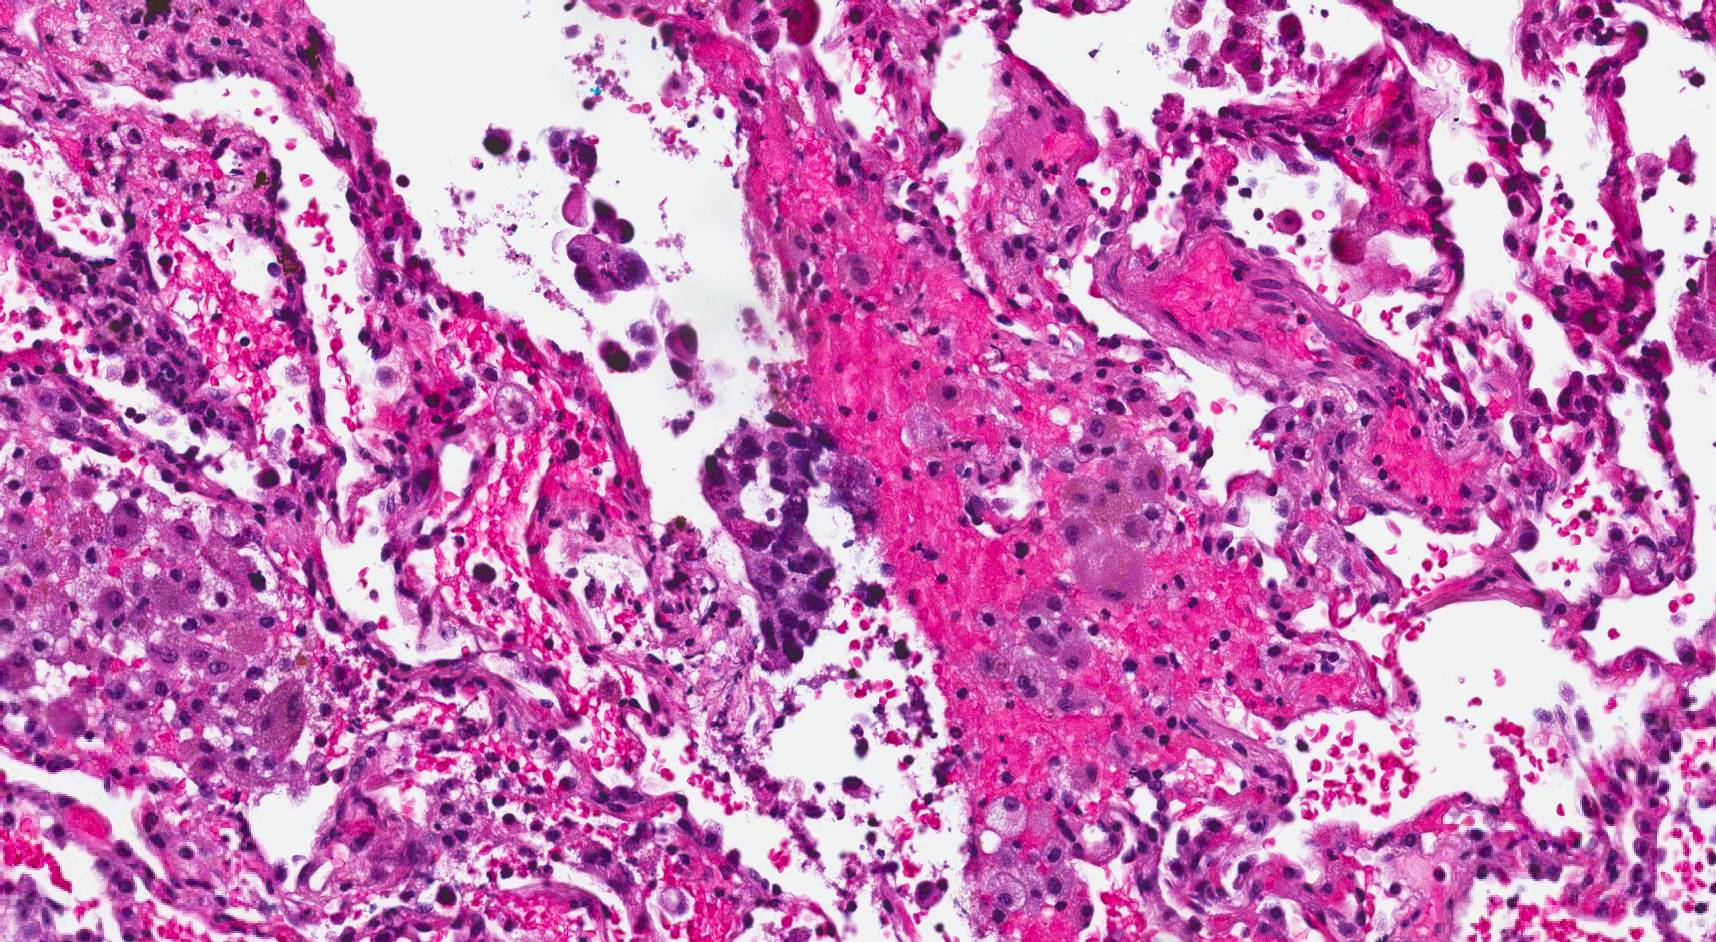stas: (697, 411, 839, 671), (547, 132, 654, 300), (594, 314, 708, 384), (483, 125, 529, 166)
